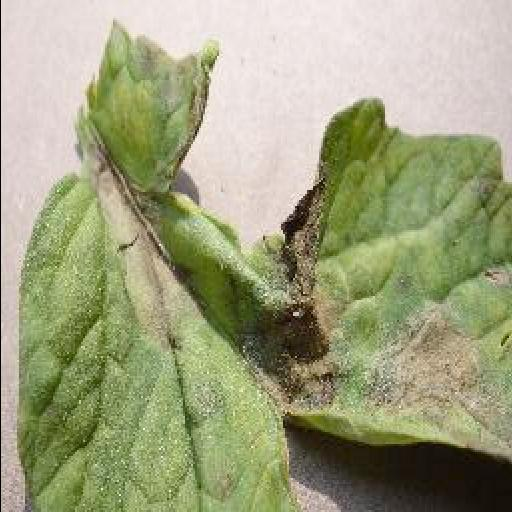disease_tomato: (16, 16, 512, 510)
